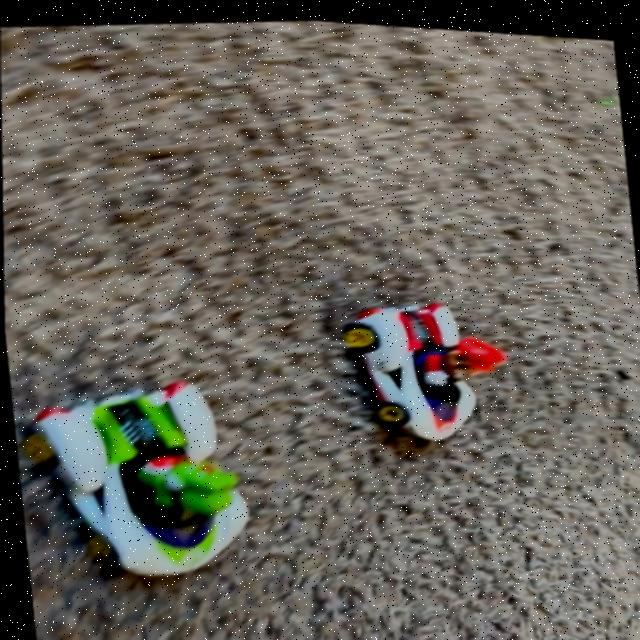mario: (328, 276, 529, 463)
yoshi: (15, 341, 276, 609)
